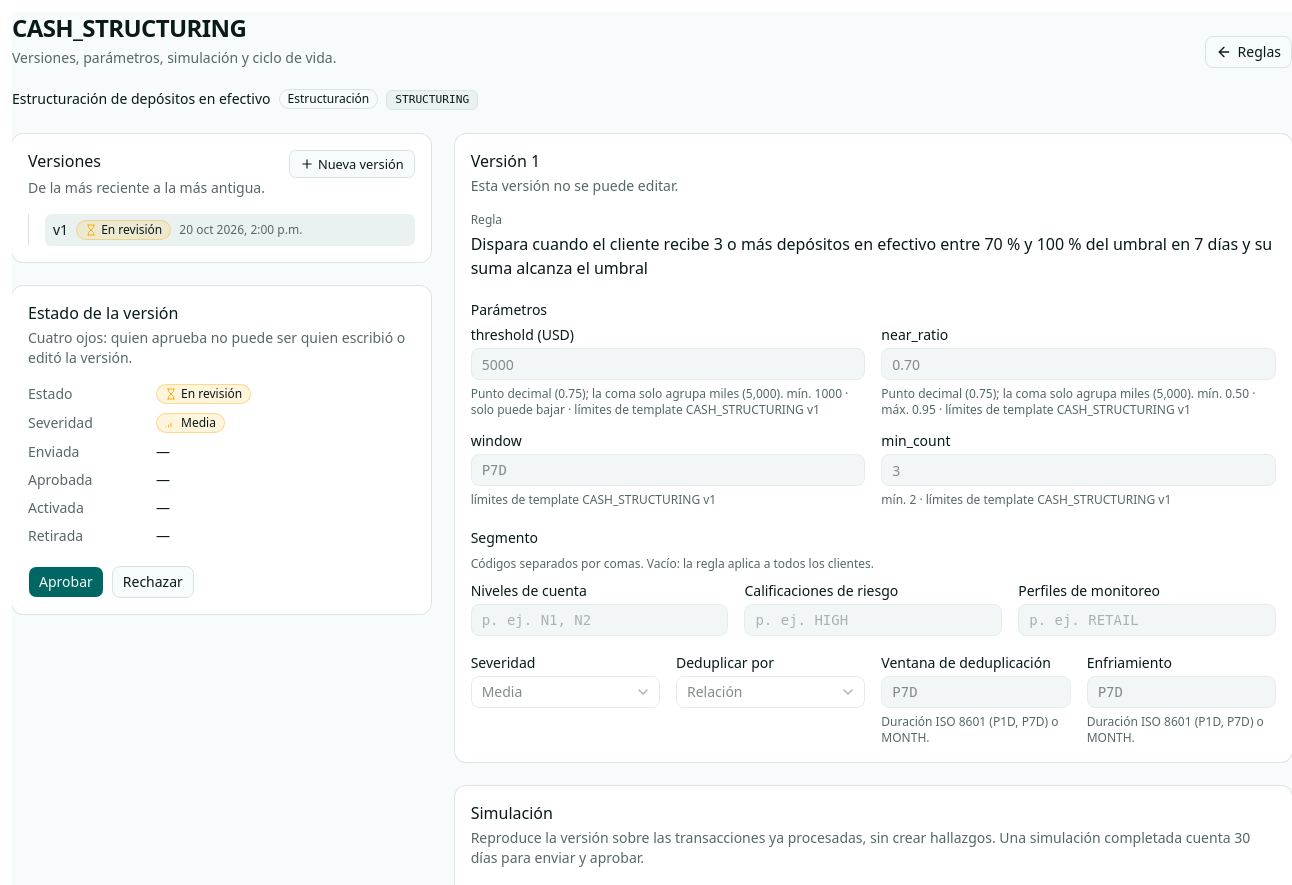
Test case: RulePage › a refused approval says why
The width and height of the screenshot is (1292, 885).
Step 1. Click the button "Aprobar" → click(66, 582), box [28, 566, 104, 598]
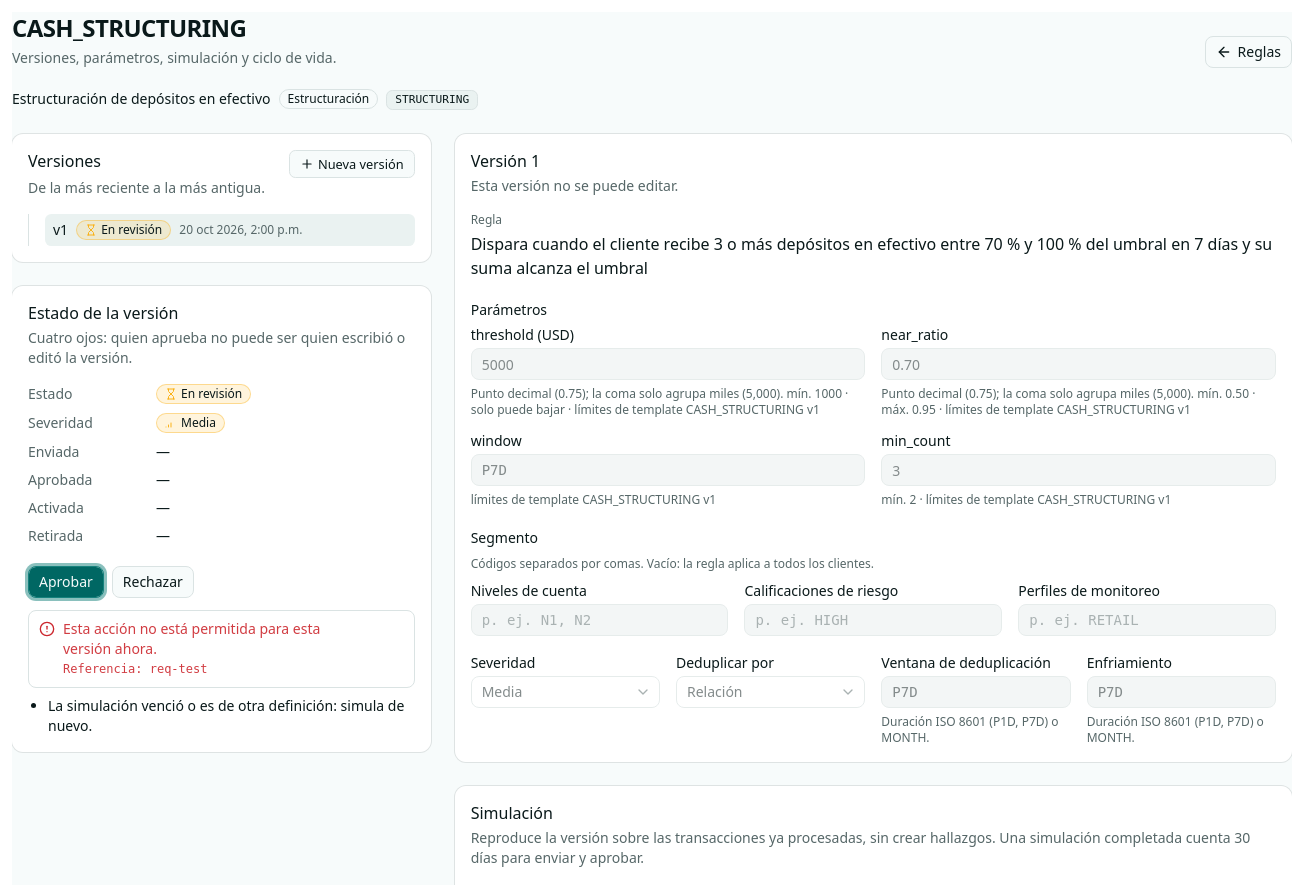
Now the text "Esta acción no está permitida para esta versión ahora." is shown, box [63, 619, 320, 658]
Now the list item "La simulación venció o es de otra definición: simula de nuevo." is shown, box [48, 696, 415, 736]
